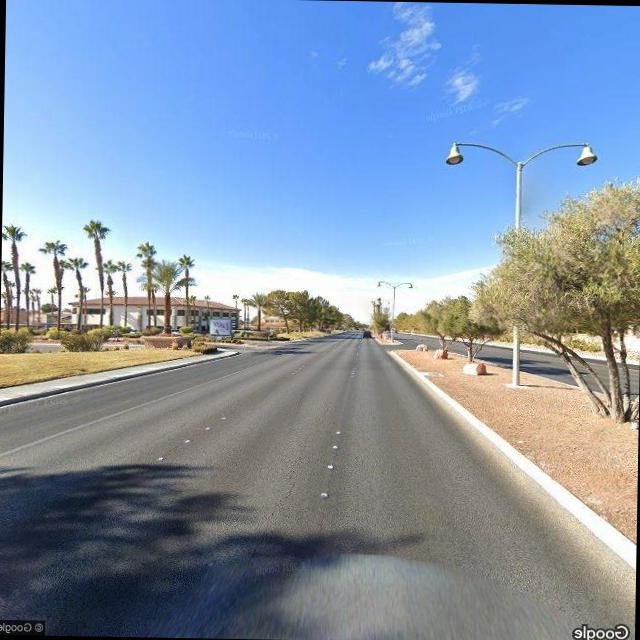pothole: (252, 458, 304, 551)
